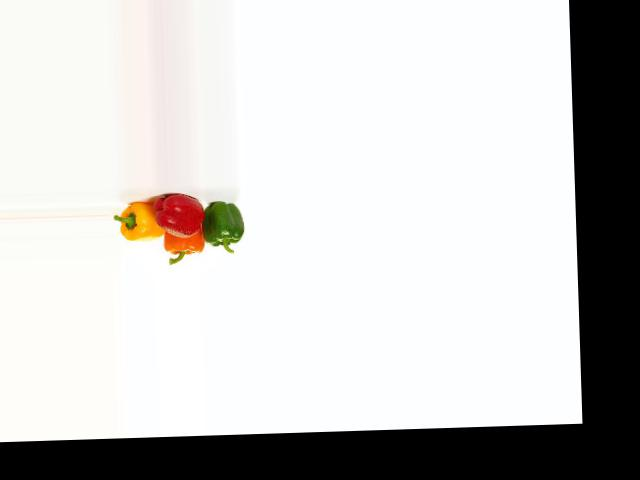bell_pepper: (198, 193, 245, 250)
